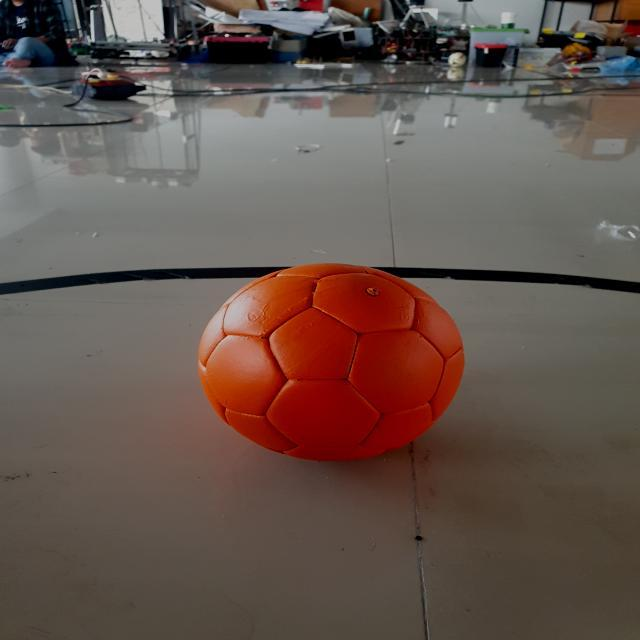bola: (168, 230, 510, 488)
